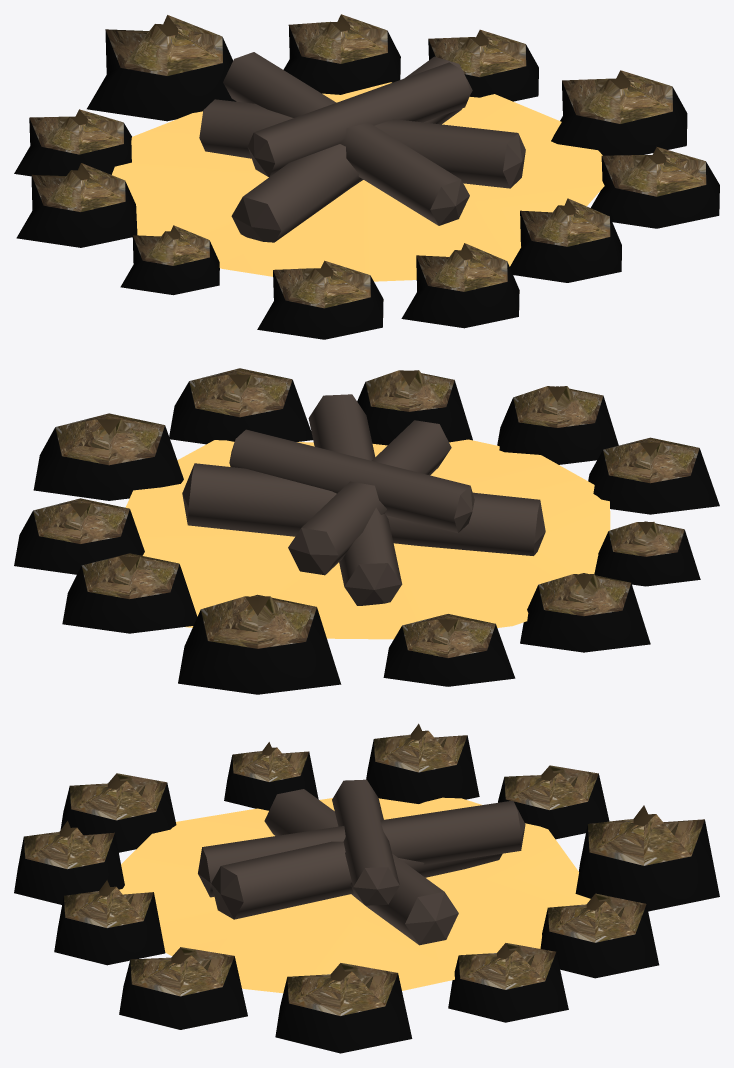
Rendered from camp_firepit_realistic.glb.
3 renders of one model, top to bottom at view 1: azimuth 30°, elevation 25°; view 2: azimuth 150°, elevation 25°; view 3: azimuth 270°, elevation 25°, orthographic. The views are drawn at different scales.
Visible parts, largest first — view 1: RealisticFirepit; view 2: RealisticFirepit; view 3: RealisticFirepit.
Part boxes in pixels (x1=…): RealisticFirepit: x1=14, y1=14, x2=719, y2=339; RealisticFirepit: x1=14, y1=368, x2=719, y2=694; RealisticFirepit: x1=14, y1=723, x2=719, y2=1053.
Size of the model in its own units: 1.68 by 0.228 by 1.66.
Materials: 3 (1 with a texture image).
